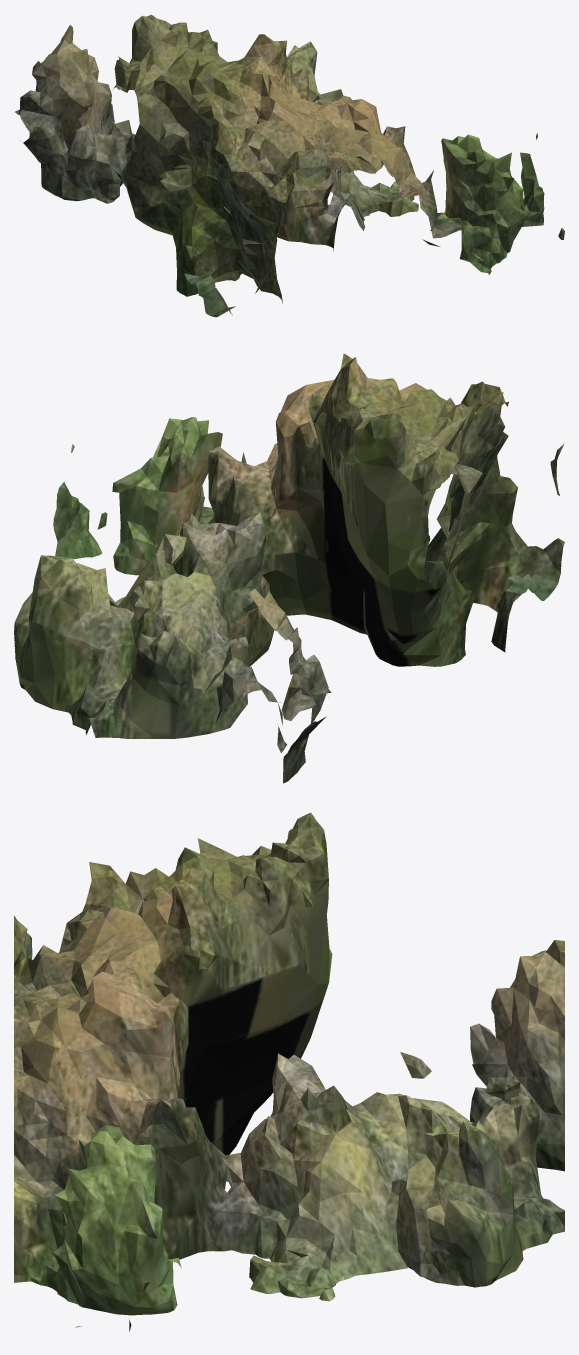
3 renders of one model, top to bottom at view 1: azimuth 30°, elevation 25°; view 2: azimuth 150°, elevation 25°; view 3: azimuth 270°, elevation 25°, orthographic. The views are drawn at different scales.
Bounding box in the file's own units: 23.6 × 14.89 × 23.6.
5 materials, 5 textured.
